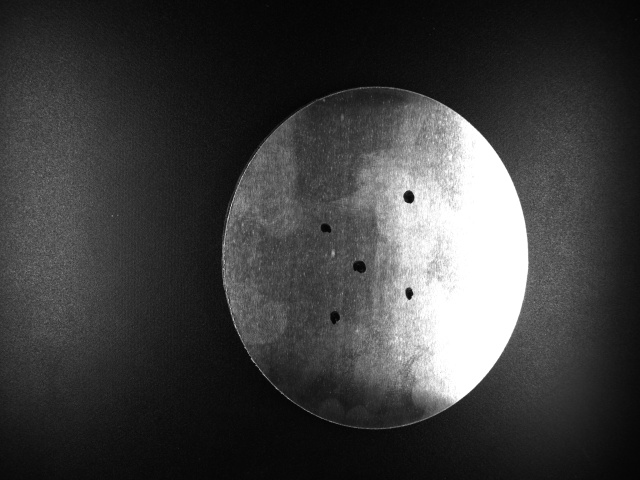zhen_kong: (328, 308, 344, 328), (351, 257, 369, 274), (401, 188, 418, 205), (318, 222, 338, 235), (404, 283, 415, 304)
